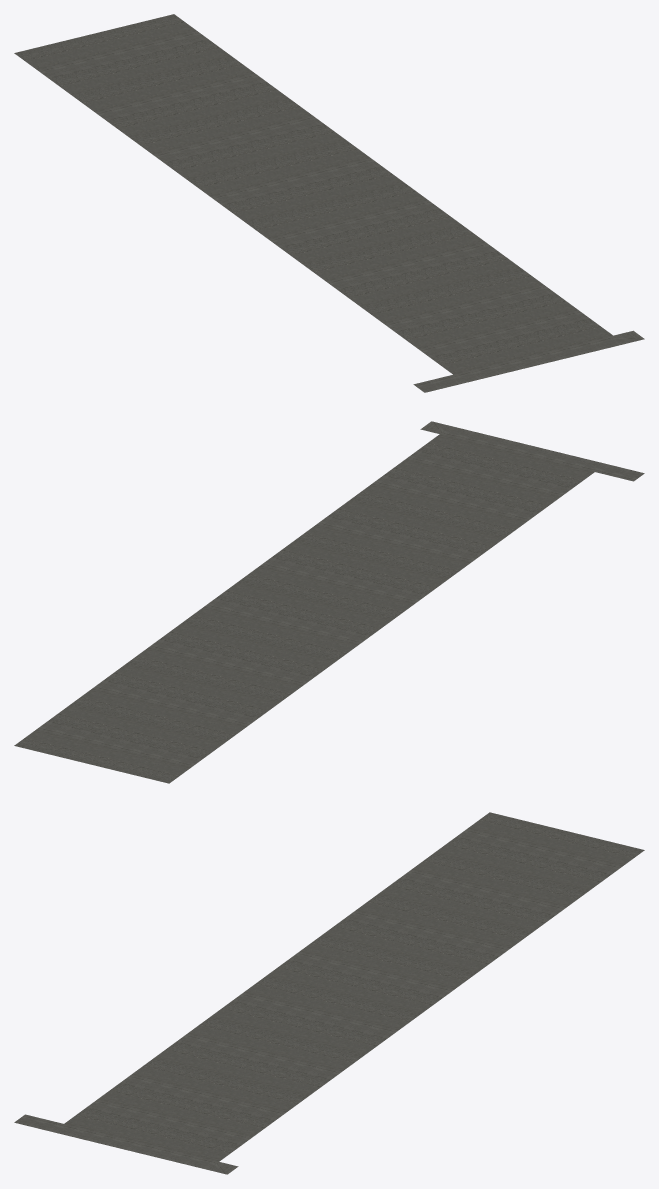
The model's file is Asphalt_EsqCañada_Achaval.fbx.
The picture shows the model from 3 angles, top to bottom: view 1: azimuth 30°, elevation 25°; view 2: azimuth 150°, elevation 25°; view 3: azimuth 330°, elevation 25°; orthographic projection. The views are drawn at different scales.
Parts seen in each view (by area): view 1: streetAsphalt_MarceloTAlvear.006; view 2: streetAsphalt_MarceloTAlvear.006; view 3: streetAsphalt_MarceloTAlvear.006.
Boxes of the visible parts, left/top/right/bottom form: streetAsphalt_MarceloTAlvear.006: left=14, top=14, right=644, bottom=392; streetAsphalt_MarceloTAlvear.006: left=14, top=421, right=644, bottom=783; streetAsphalt_MarceloTAlvear.006: left=14, top=812, right=644, bottom=1174.
Size of the model in its own units: 22 by 1.27e-05 by 78.
